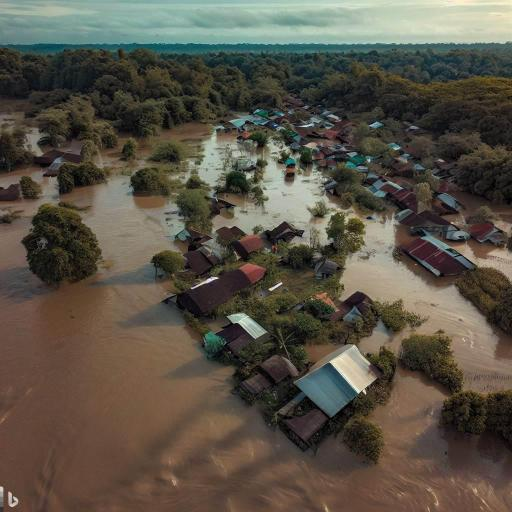flood: (0, 123, 512, 512), (342, 206, 512, 393), (0, 98, 47, 153), (450, 240, 512, 279), (454, 192, 512, 231), (361, 324, 410, 353), (306, 344, 342, 361)
house: (266, 344, 384, 440), (176, 269, 250, 323), (395, 233, 479, 278), (205, 310, 271, 354), (237, 353, 301, 397), (329, 292, 377, 328), (222, 227, 269, 255), (185, 240, 222, 272), (263, 219, 303, 247), (466, 222, 508, 246), (315, 256, 339, 280)
